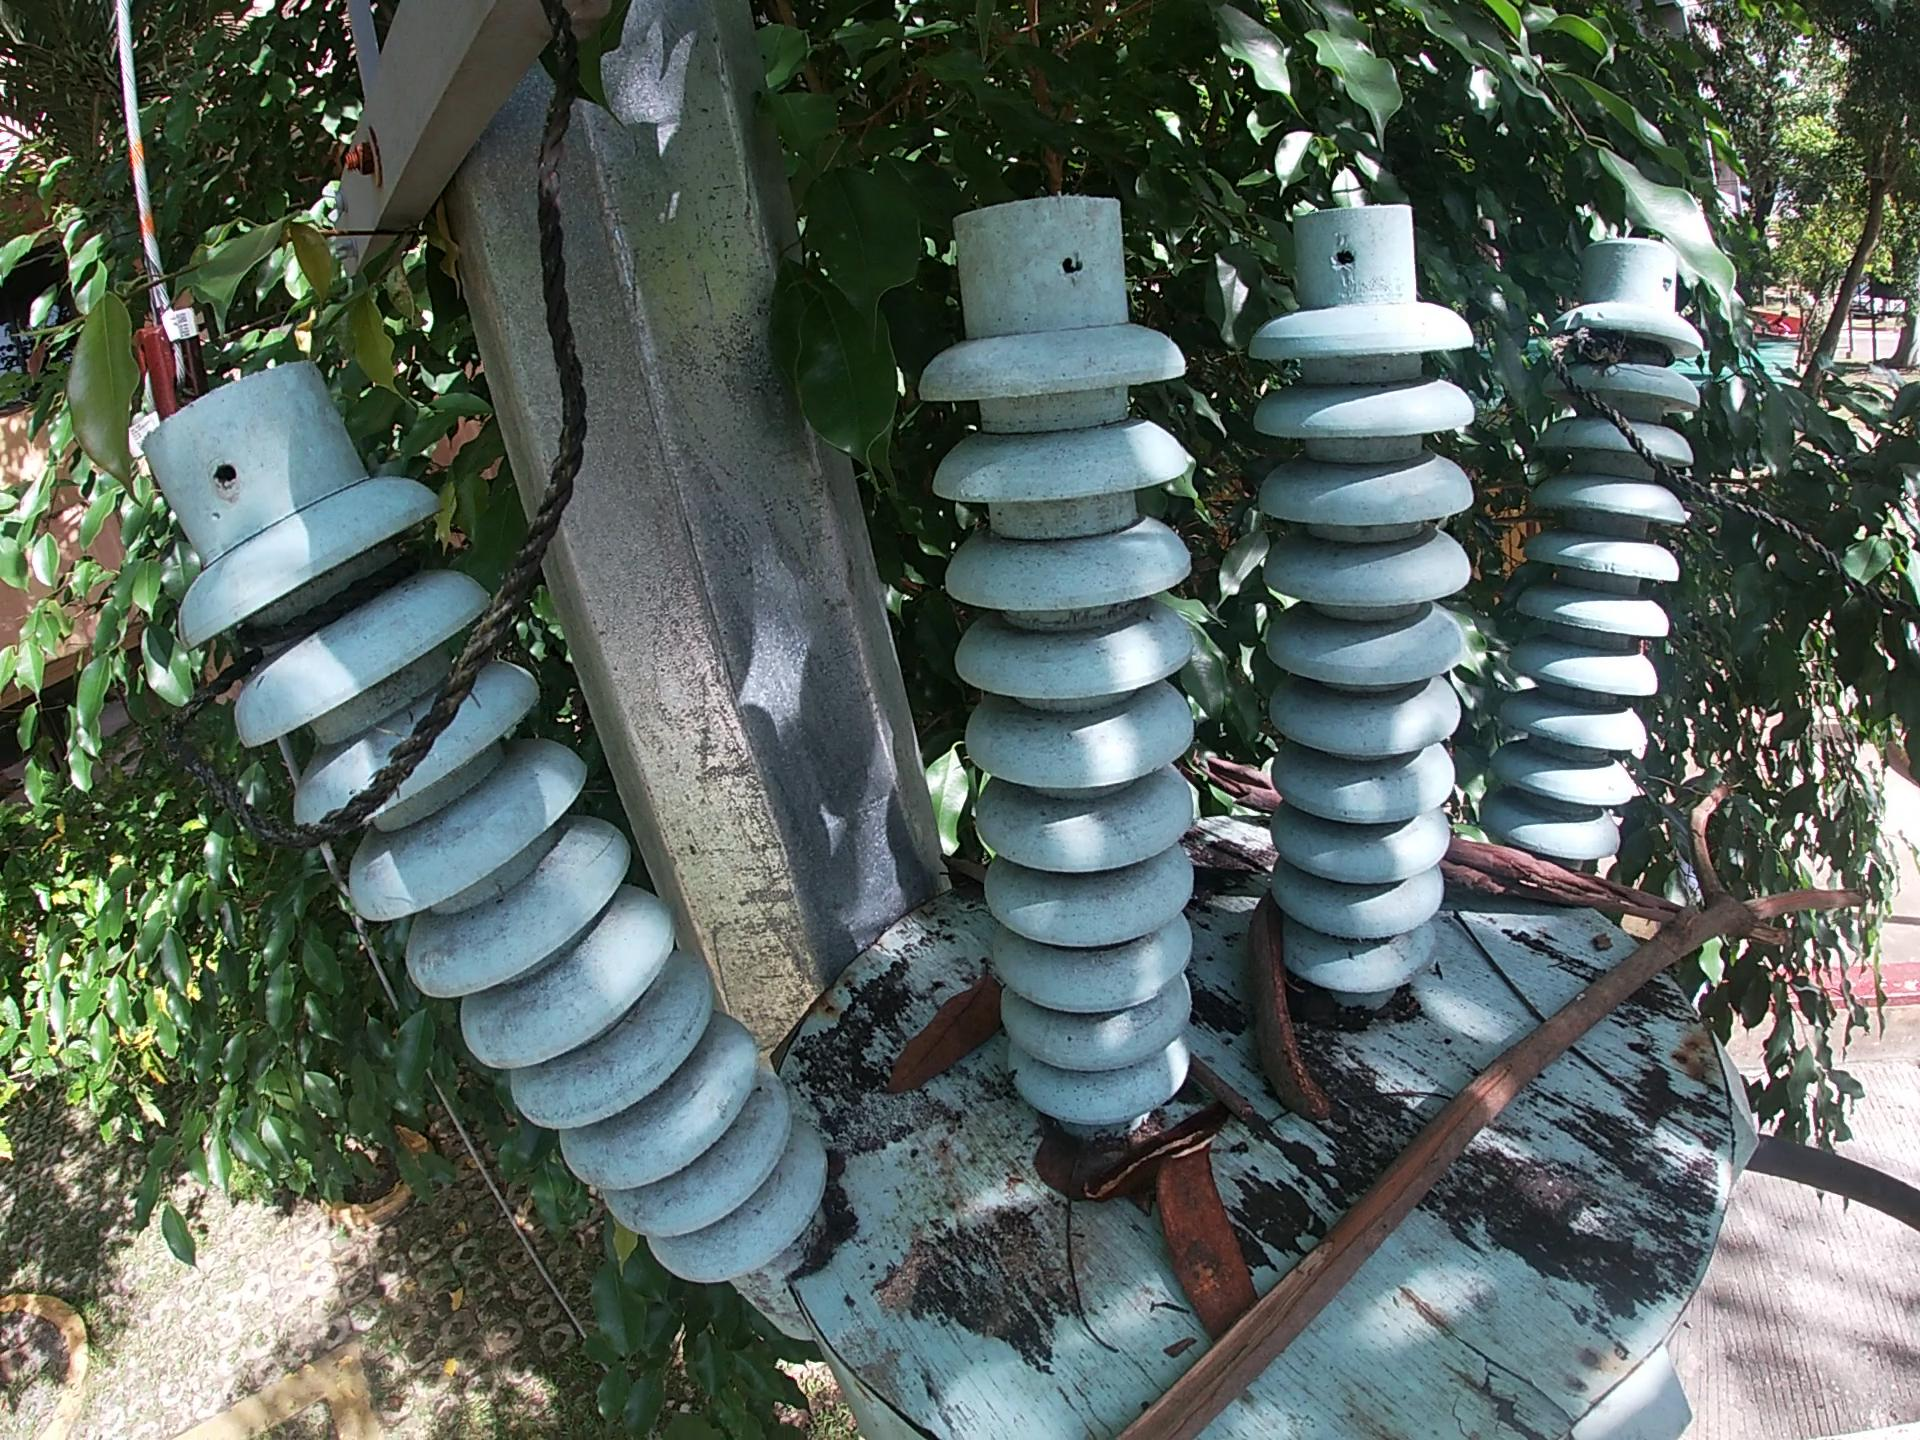leaf: (866, 964, 996, 1095), (1033, 1131, 1105, 1201)
mahogany fruit: (1225, 879, 1352, 1150), (1163, 1137, 1256, 1345)
tree branch: (1078, 774, 1887, 1437), (1471, 917, 1671, 1116), (1442, 832, 1668, 926), (1084, 1110, 1223, 1199), (1057, 1198, 1128, 1358), (1184, 755, 1281, 824), (1197, 1057, 1259, 1150), (942, 855, 996, 882)
